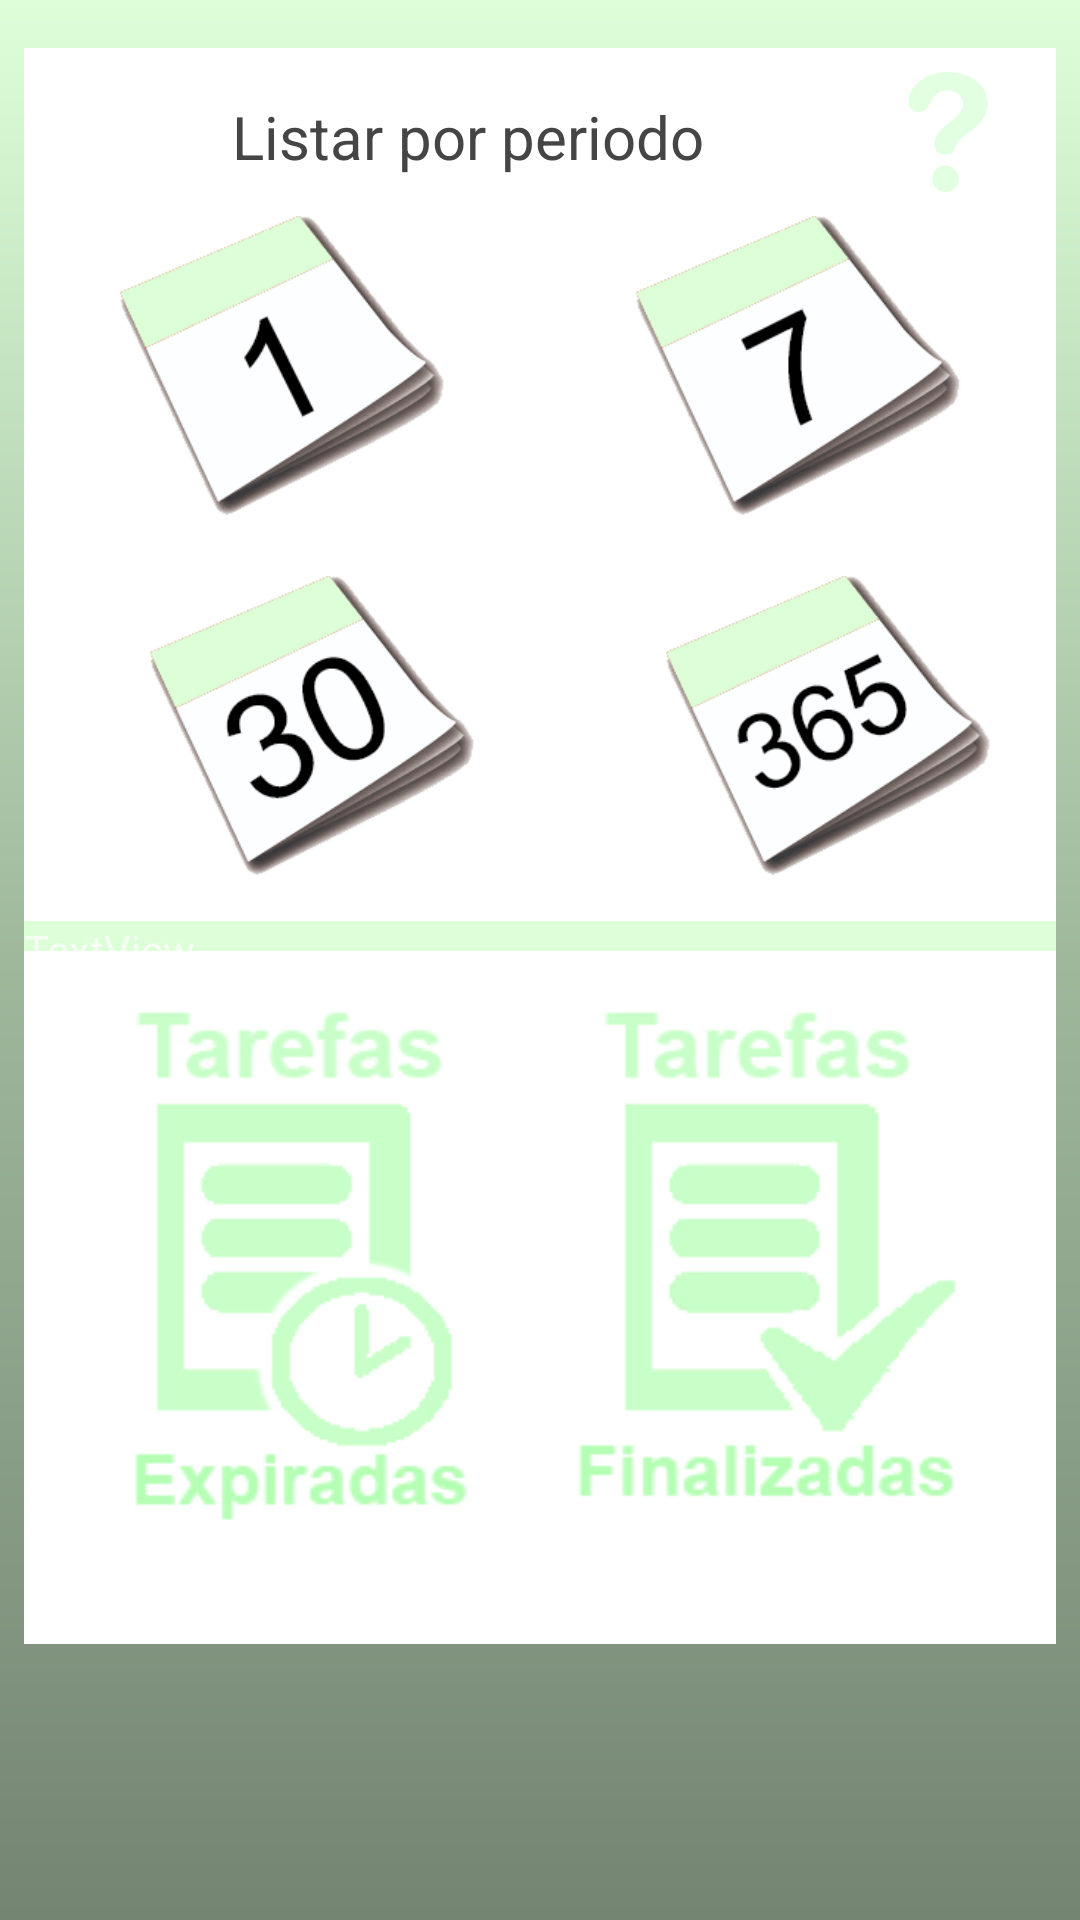

Named icons in this screenshot (1080x1920) and their bounding boxes, (x1, y1, x2, y2):
calendario: (120, 216, 443, 515), (636, 216, 959, 515), (150, 576, 473, 875), (666, 576, 989, 875)
interogacao: (909, 72, 987, 192)
